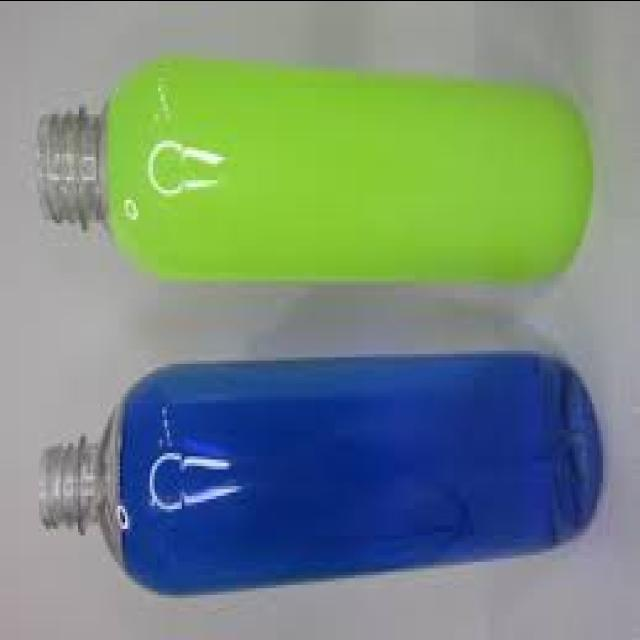bottle: (40, 353, 600, 590), (38, 60, 591, 278)
